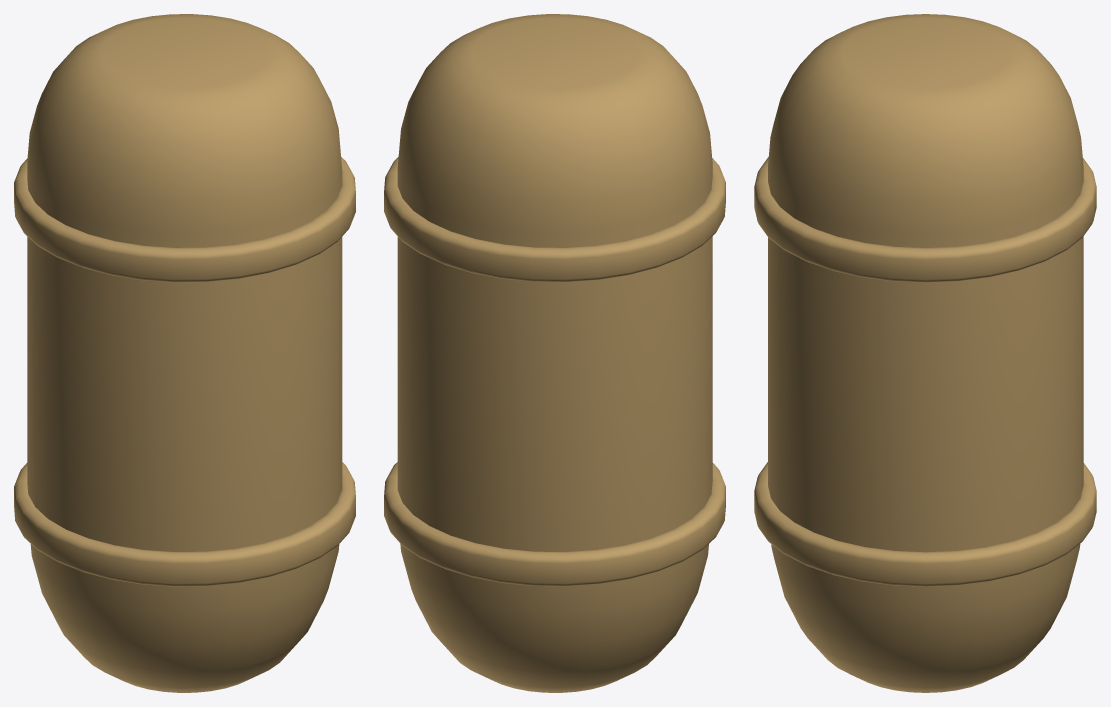
File: Reservoir-B.fbx
3 renders of one model, left to right at view 1: azimuth 30°, elevation 25°; view 2: azimuth 150°, elevation 25°; view 3: azimuth 270°, elevation 25°, orthographic.
Parts seen in each view (by area): view 1: Reservoir-B; view 2: Reservoir-B; view 3: Reservoir-B.
Part boxes in pixels (bbox=[...]): Reservoir-B: bbox=[14, 14, 355, 692]; Reservoir-B: bbox=[384, 14, 725, 692]; Reservoir-B: bbox=[754, 14, 1096, 692].
Bounding box in the file's own units: 8888 × 17477 × 8888.
